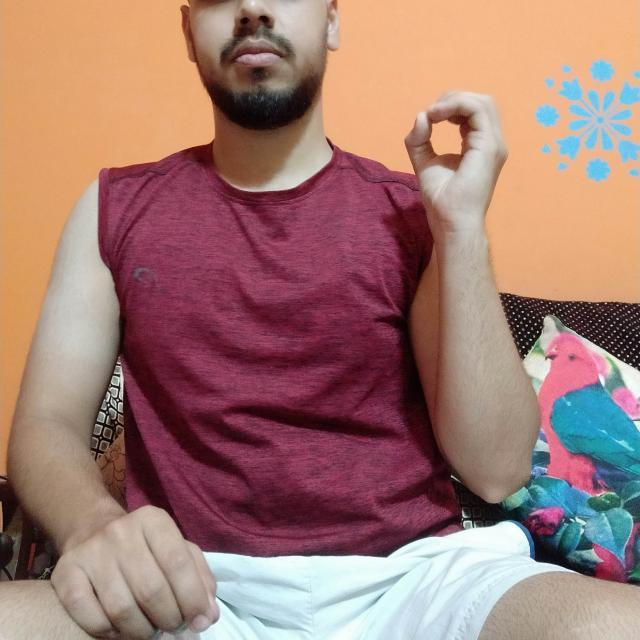O: (387, 87, 529, 215)
